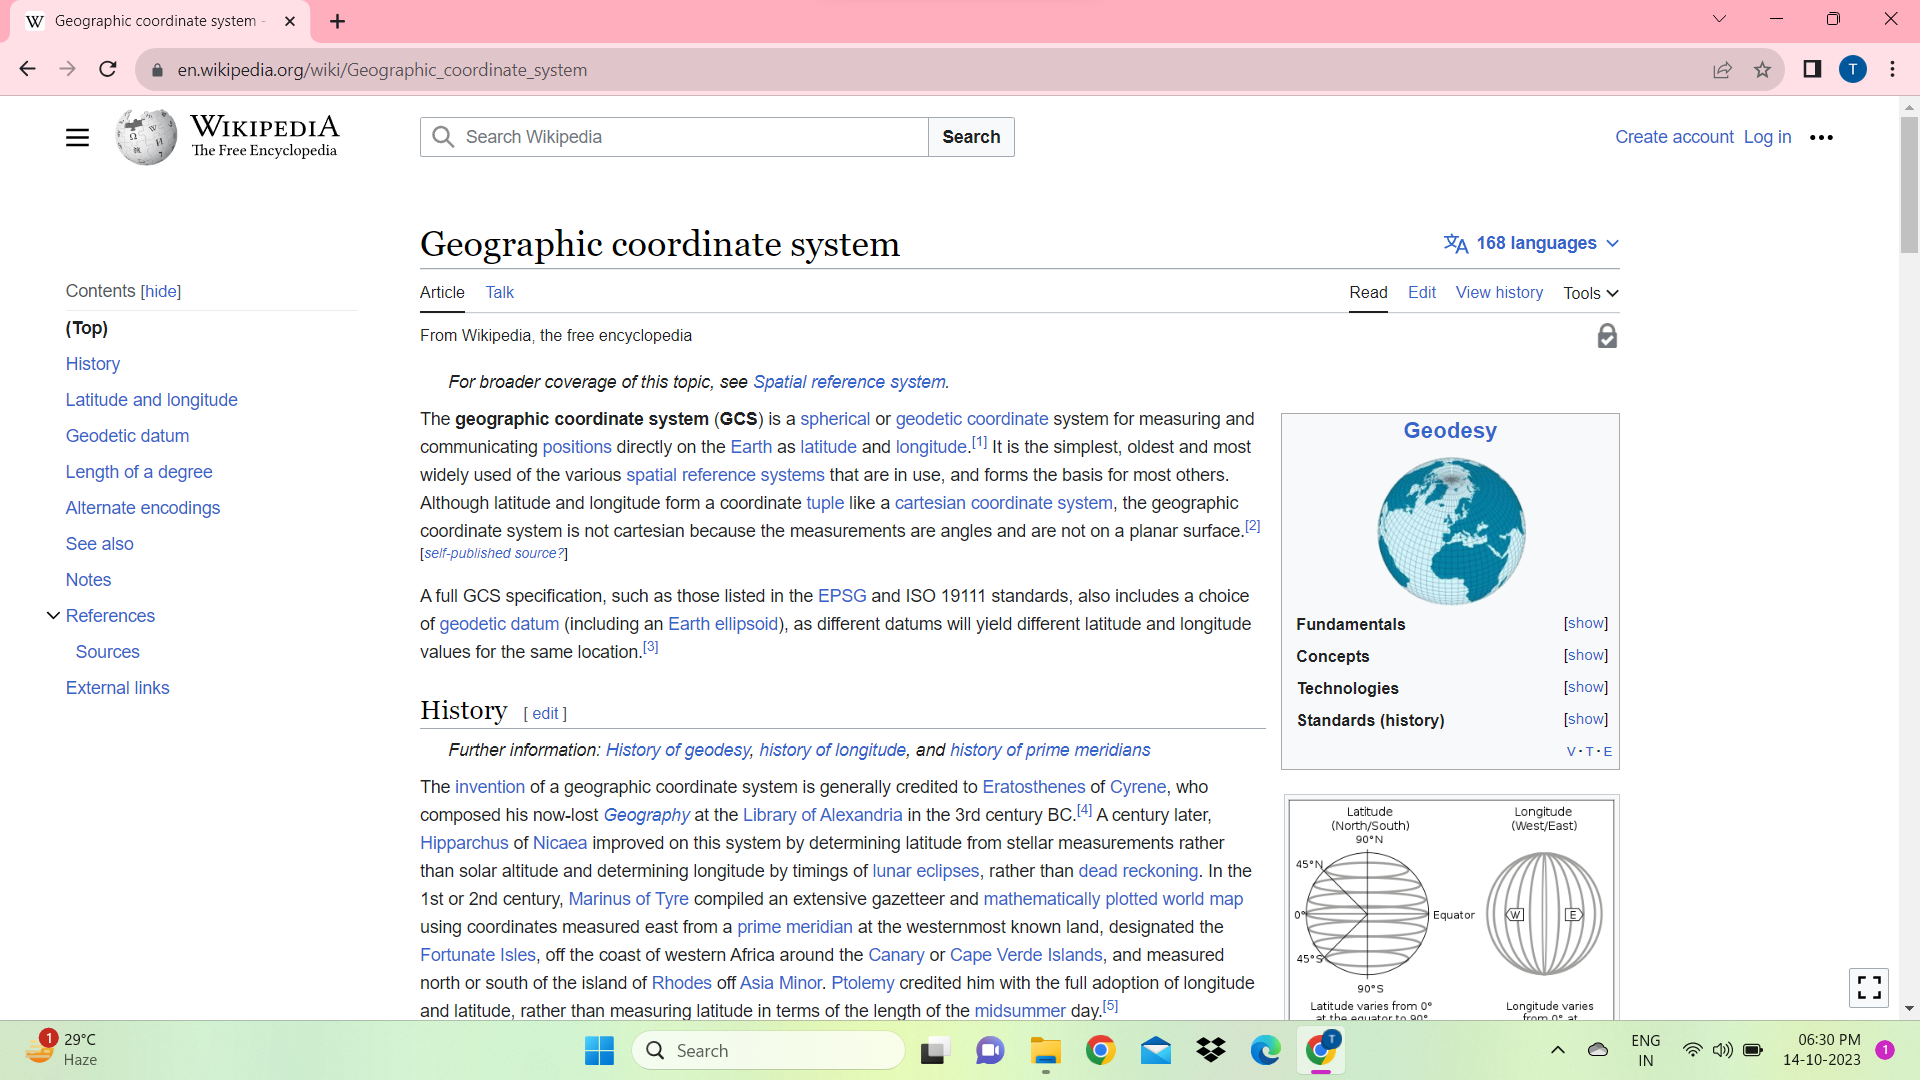Image: (1283, 790, 1638, 997), (1361, 459, 1547, 613)
Paragraph: (414, 773, 1262, 1022), (407, 406, 1266, 567), (418, 574, 1255, 673), (406, 214, 919, 269), (438, 729, 1170, 767), (440, 364, 956, 394), (407, 315, 727, 349), (54, 388, 272, 418), (1465, 223, 1607, 258), (58, 458, 223, 488), (58, 496, 233, 522), (400, 684, 516, 723), (58, 421, 210, 447), (58, 272, 199, 299), (65, 596, 164, 630), (1288, 709, 1455, 729), (1448, 278, 1549, 306), (1275, 617, 1439, 634), (1385, 421, 1513, 442), (1292, 644, 1385, 671), (58, 678, 173, 699), (74, 634, 149, 665), (67, 526, 149, 554), (1295, 679, 1404, 696), (58, 566, 128, 591), (65, 352, 136, 376), (411, 281, 479, 306), (58, 315, 123, 340), (1331, 285, 1395, 306), (1398, 278, 1443, 306), (481, 281, 525, 306), (1556, 285, 1605, 306)
